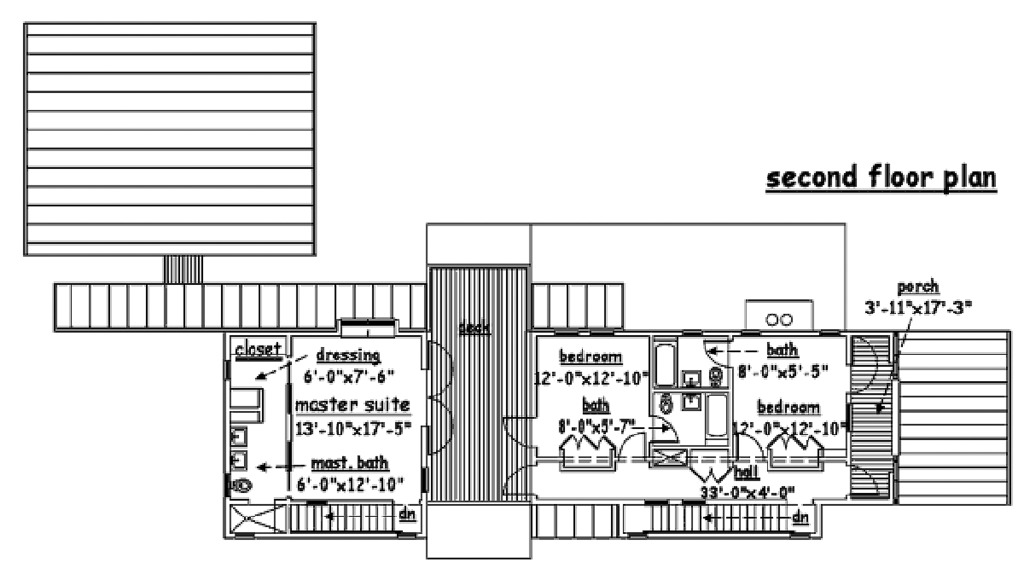door: (646, 411, 679, 444), (617, 430, 650, 458), (702, 339, 732, 368)
small_sink: (681, 369, 705, 388), (229, 425, 248, 445), (229, 448, 247, 468)
stairs: (640, 498, 815, 541), (287, 496, 414, 538)
tub: (652, 338, 681, 392), (703, 387, 730, 444)
